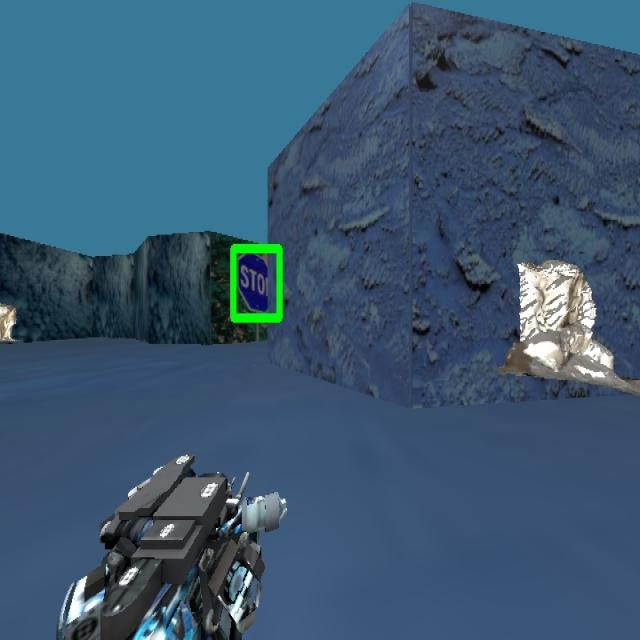Diamon: (228, 241, 284, 324)
Ice: (508, 252, 627, 443), (1, 230, 17, 358)
